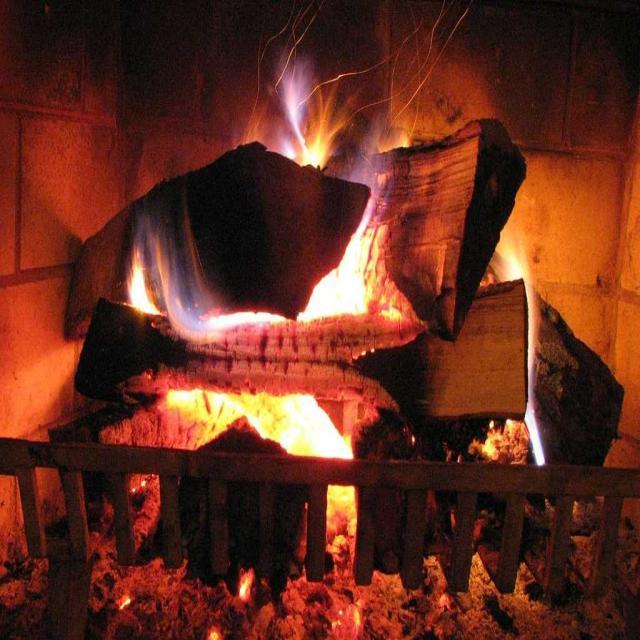Fire: (172, 284, 382, 442), (280, 68, 427, 273), (496, 240, 544, 292)
